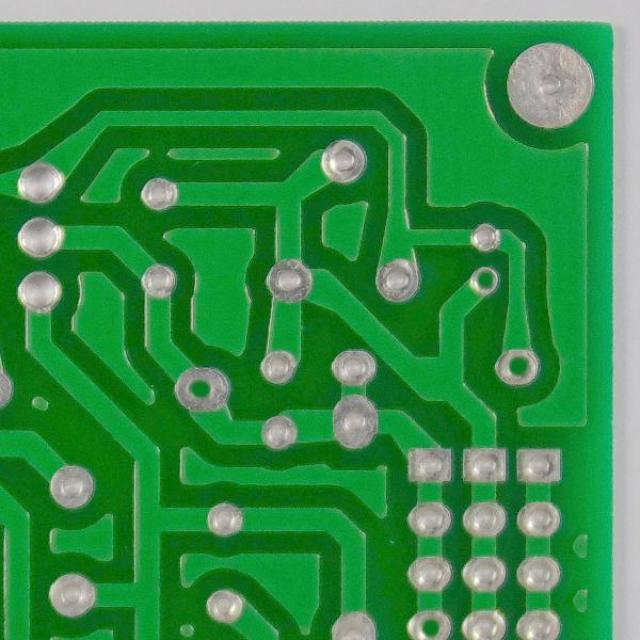Missing_Hole: (168, 362, 232, 415), (491, 346, 545, 390), (401, 607, 456, 639), (464, 262, 501, 300)
